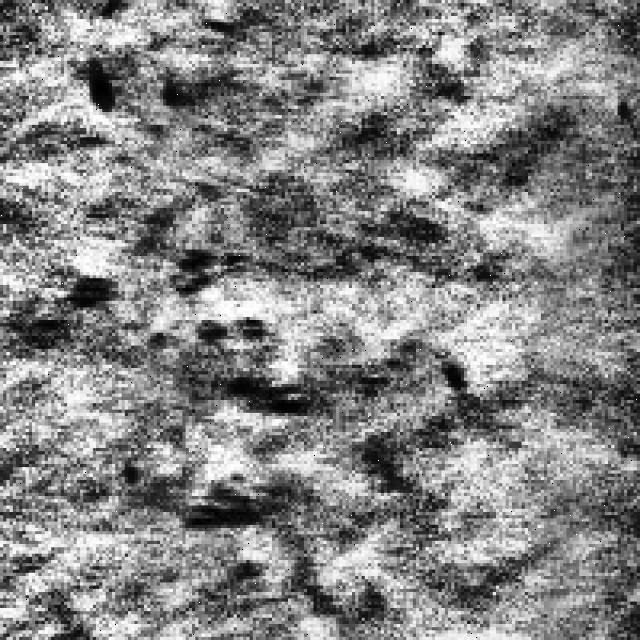Crazing: (160, 236, 310, 534)
